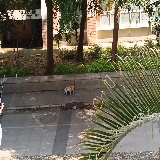fire: (69, 85, 75, 91)
